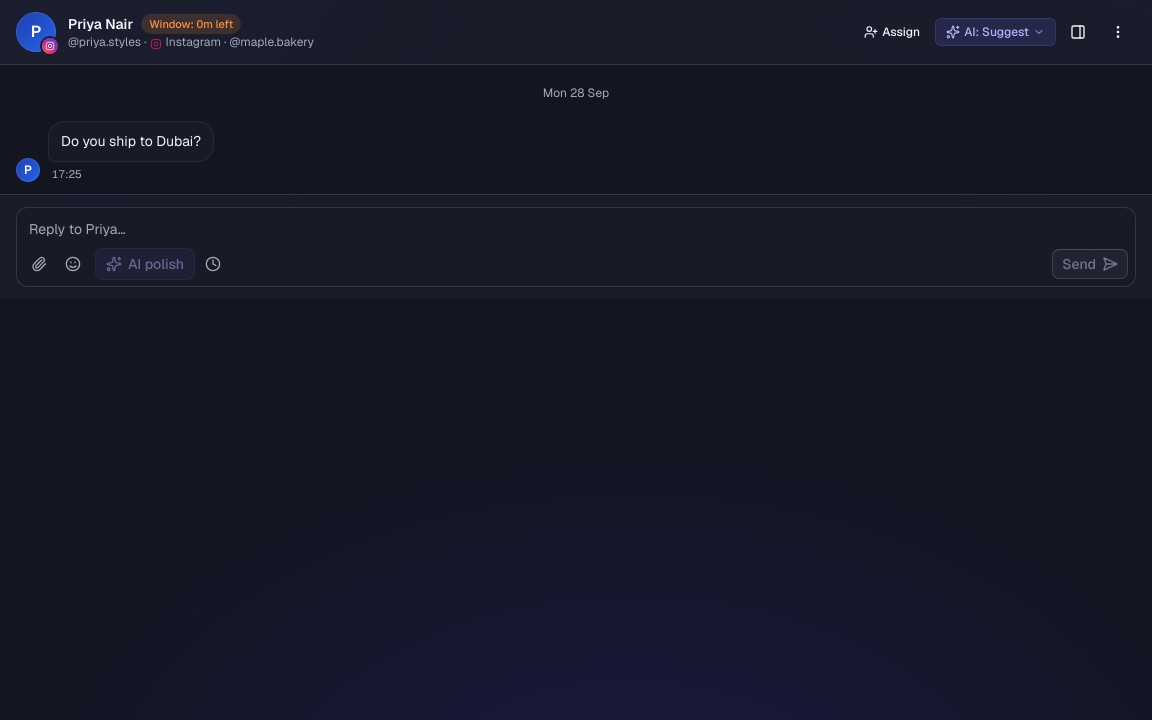
Test: ThreadView: optimistic send (TR-FE-05) › shows the mapped reason when the API refuses
Expected: the text "Do you ship to Dubai?" is shown, left=61, top=130, right=201, bottom=153
Type "Hello?" into the text box labelled "Reply to Priya…" at (576, 228), box left=17, top=208, right=1135, bottom=248
Then press Enter
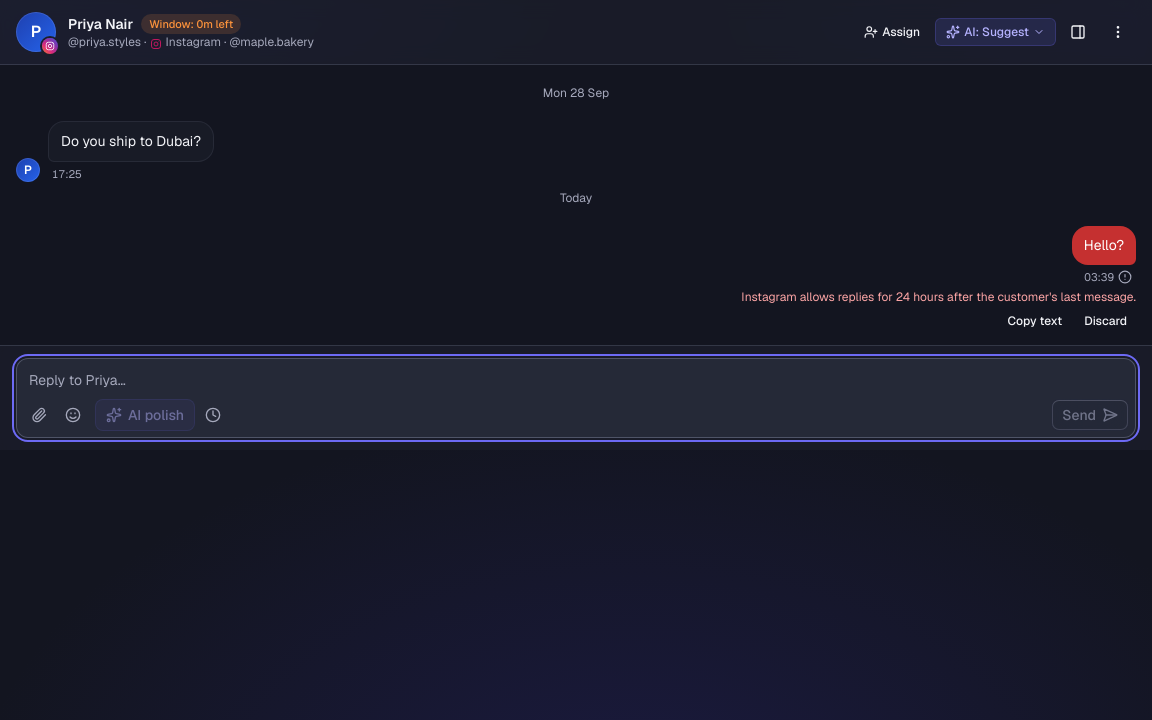
Expected: the message shows "Instagram allows replies for 24 hours after the customer's last message.", left=741, top=288, right=1136, bottom=304
Click the button "Discard" at (1106, 320), box left=1075, top=308, right=1136, bottom=332
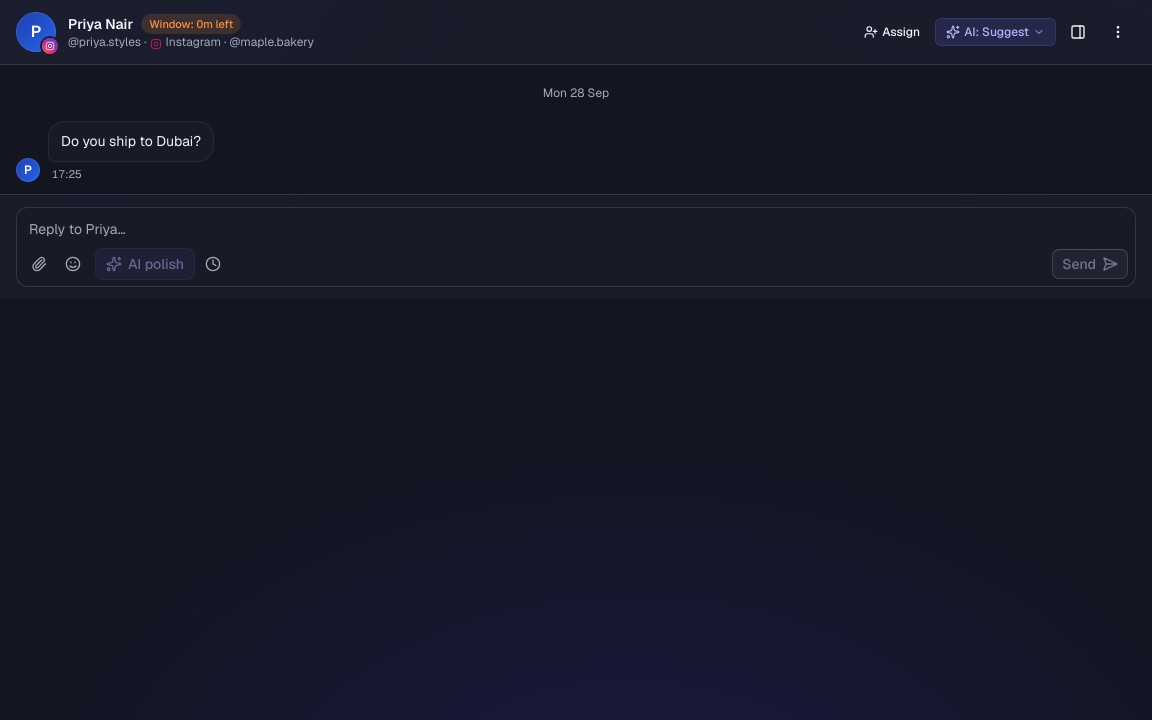
Expected: the text "Hello?" is gone
